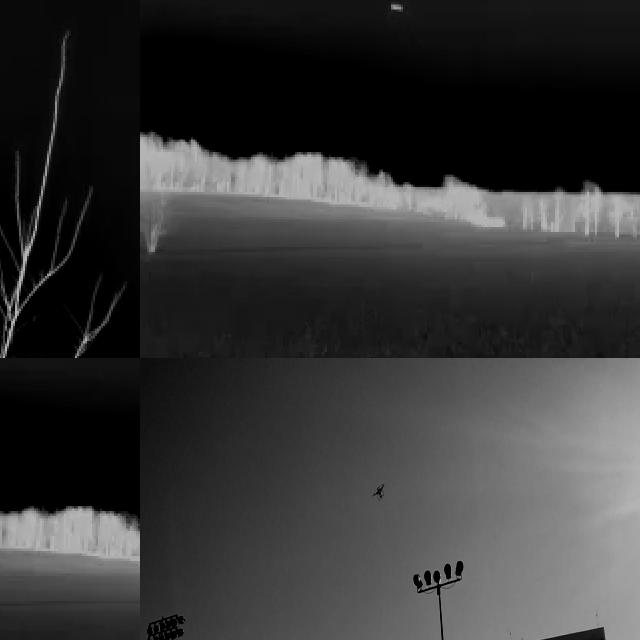1: (380, 0, 414, 27)
drone: (370, 476, 388, 506)
